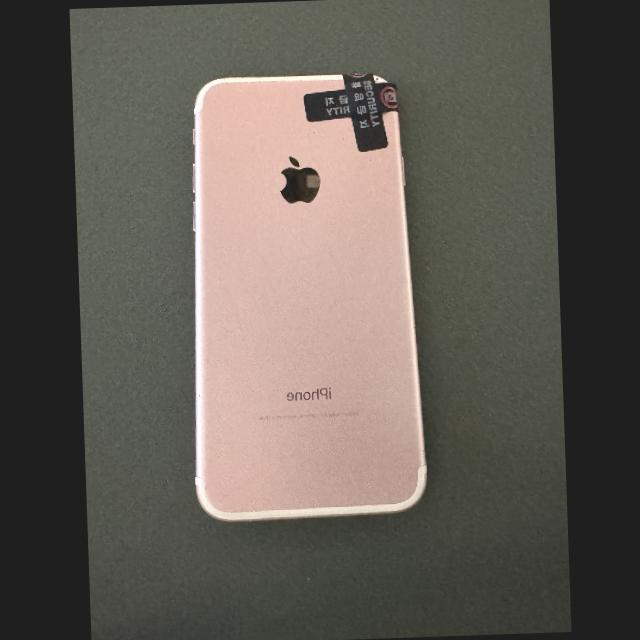phone: (192, 71, 426, 521)
sticker: (341, 72, 387, 151), (303, 91, 349, 122)
